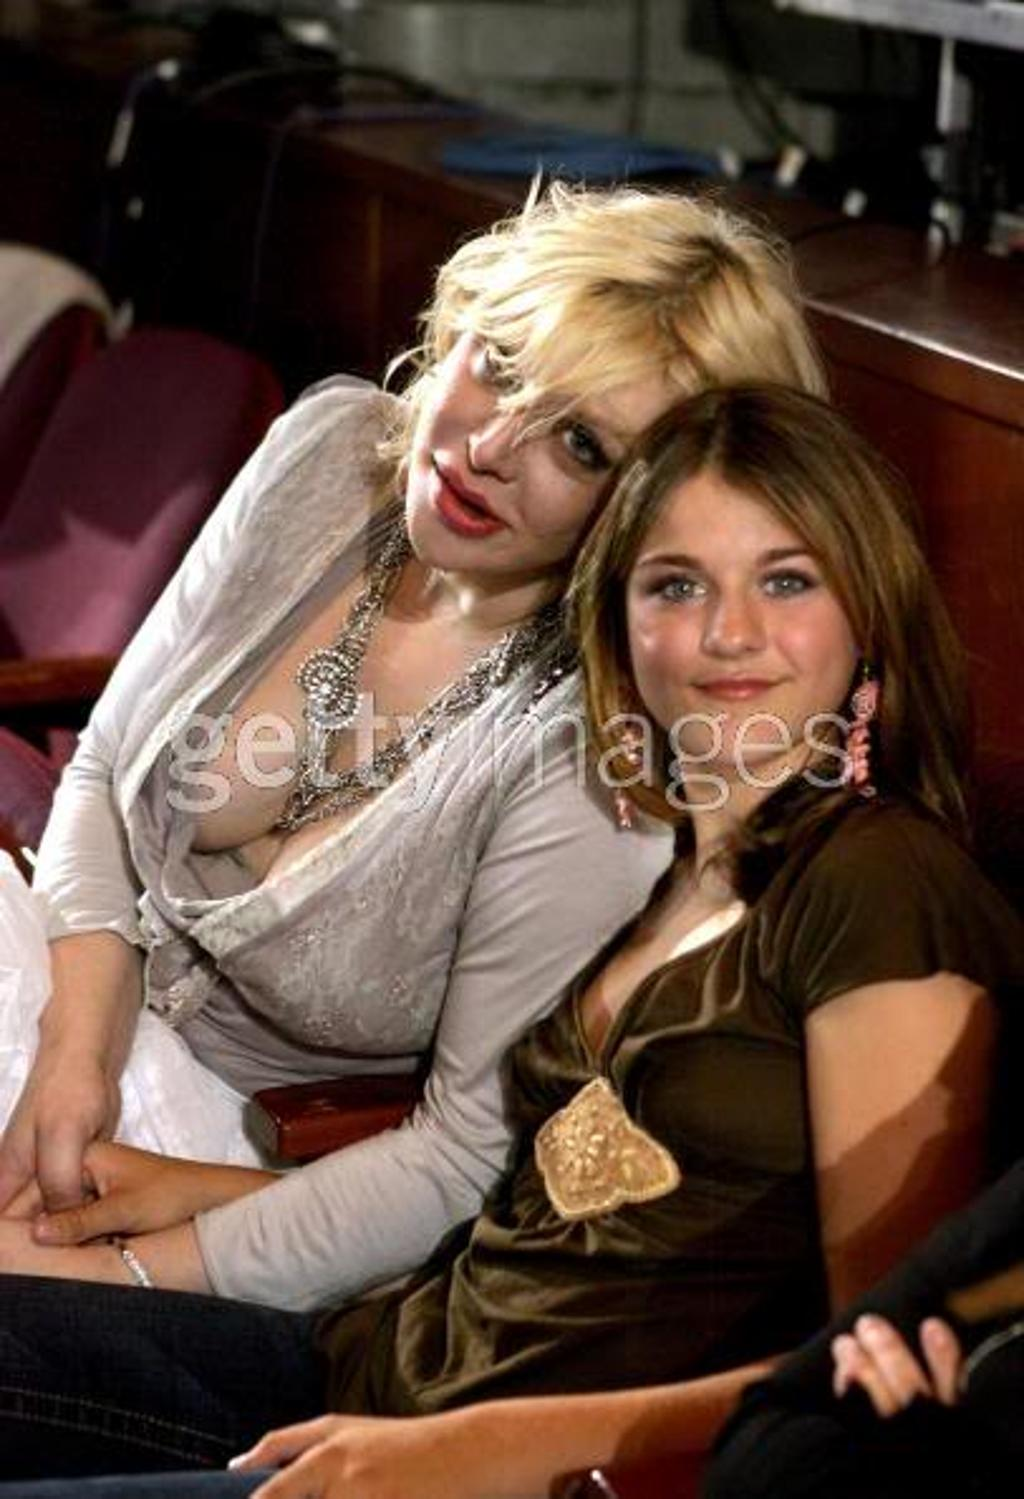face: (415, 287, 634, 591), (635, 489, 857, 767)
